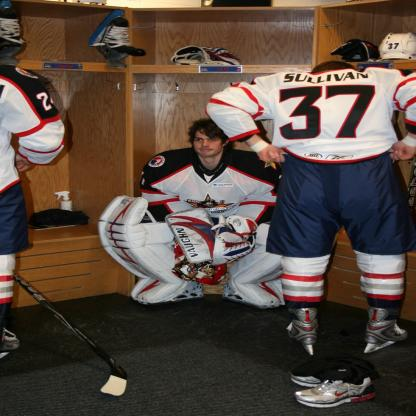Helmet: (376, 31, 416, 60)
